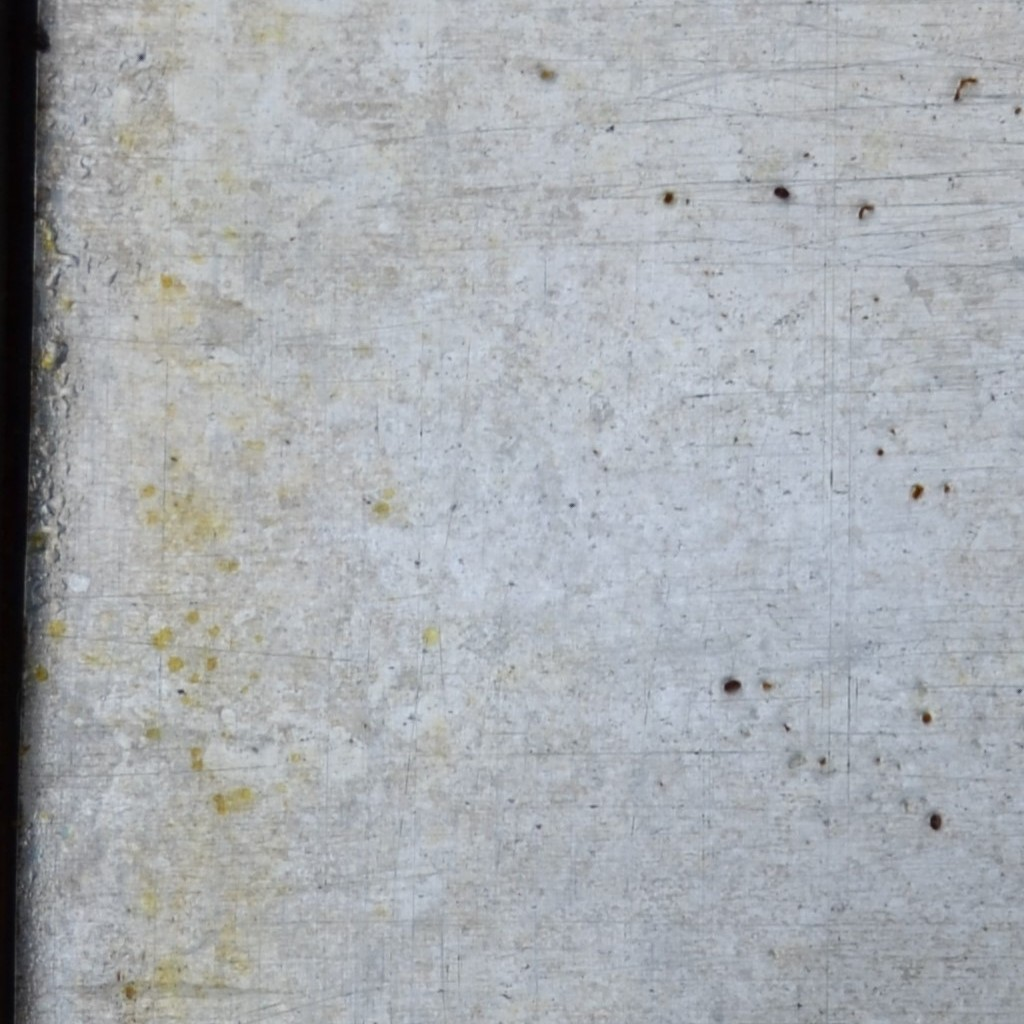varroa: (771, 182, 794, 205), (722, 677, 745, 698), (929, 810, 942, 836)
